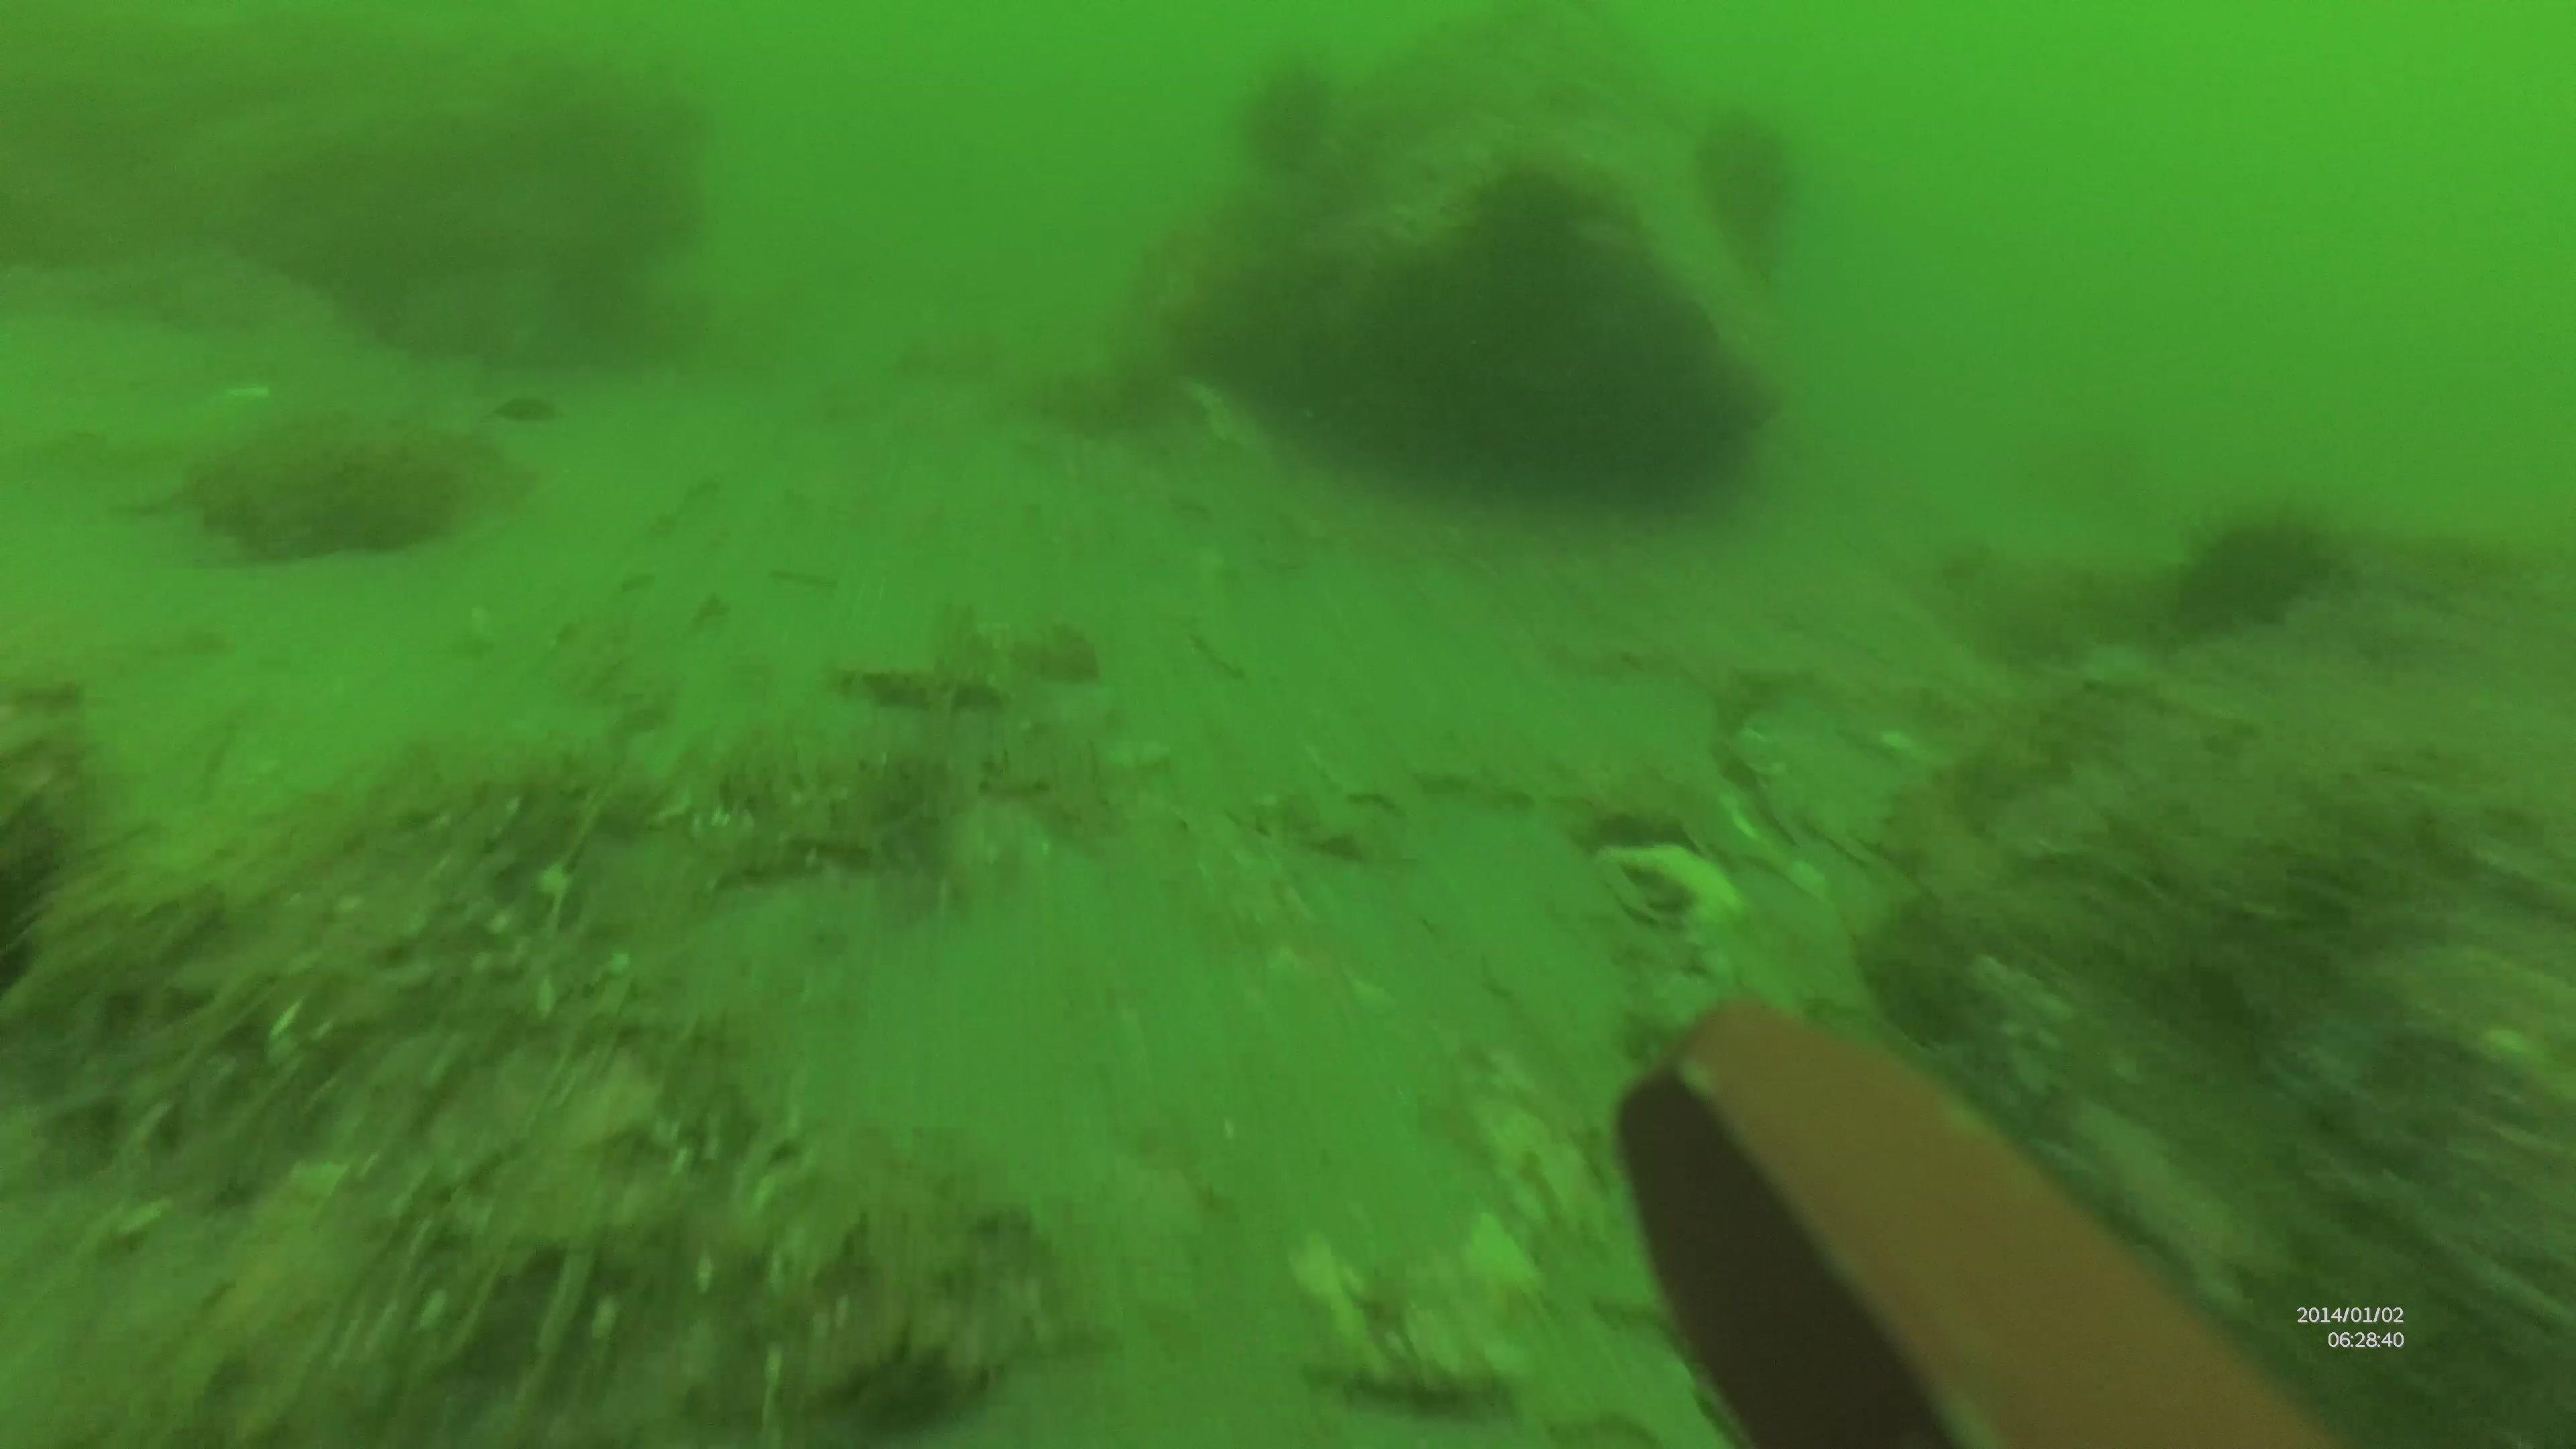echinus: (2187, 499, 2353, 633), (1697, 111, 1810, 280), (1238, 55, 1348, 175), (1484, 168, 1575, 242)
